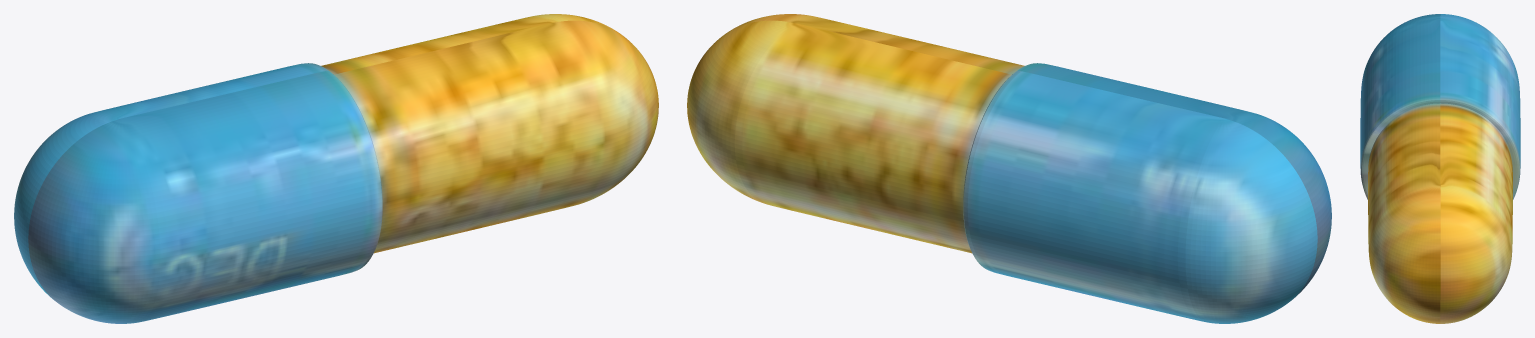
File: 20140311GOPHDRGPT00899.fbx
3 renders of one model, left to right at view 1: azimuth 30°, elevation 25°; view 2: azimuth 150°, elevation 25°; view 3: azimuth 270°, elevation 25°, orthographic. The views are drawn at different scales.
Parts seen in each view (by area): view 1: Sphere; view 2: Sphere; view 3: Sphere.
Boxes of the visible parts, box(x1,y1,x2,y2) form: Sphere: box(14, 14, 658, 323); Sphere: box(687, 14, 1331, 323); Sphere: box(1360, 14, 1520, 323).
Size of the model in its own units: 1.94 by 0.5901 by 0.5839.
1 material, 1 textured.
